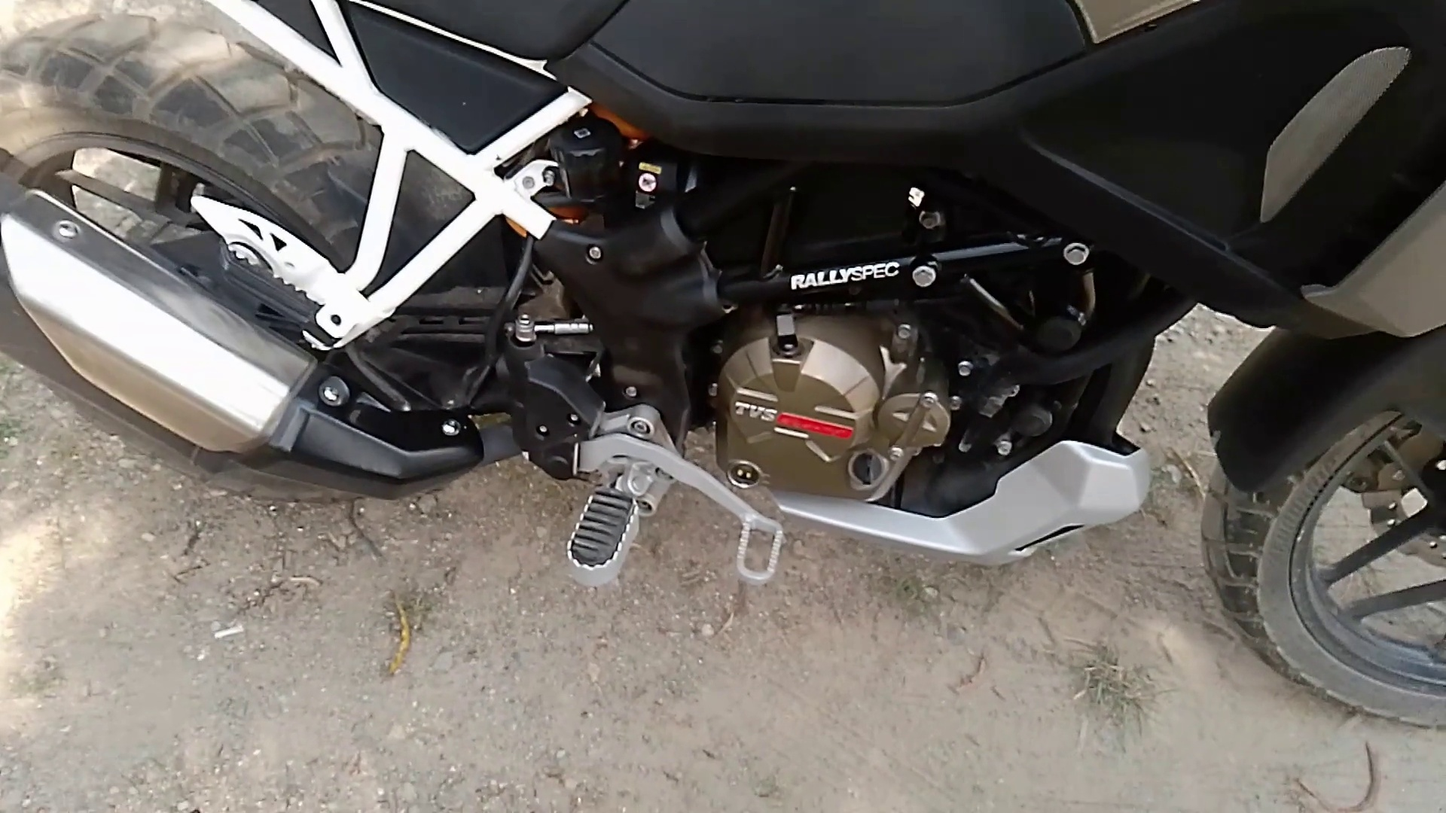engine: (682, 188, 972, 544)
oil_cap: (849, 433, 892, 495)
oil_marker: (715, 446, 778, 499)
